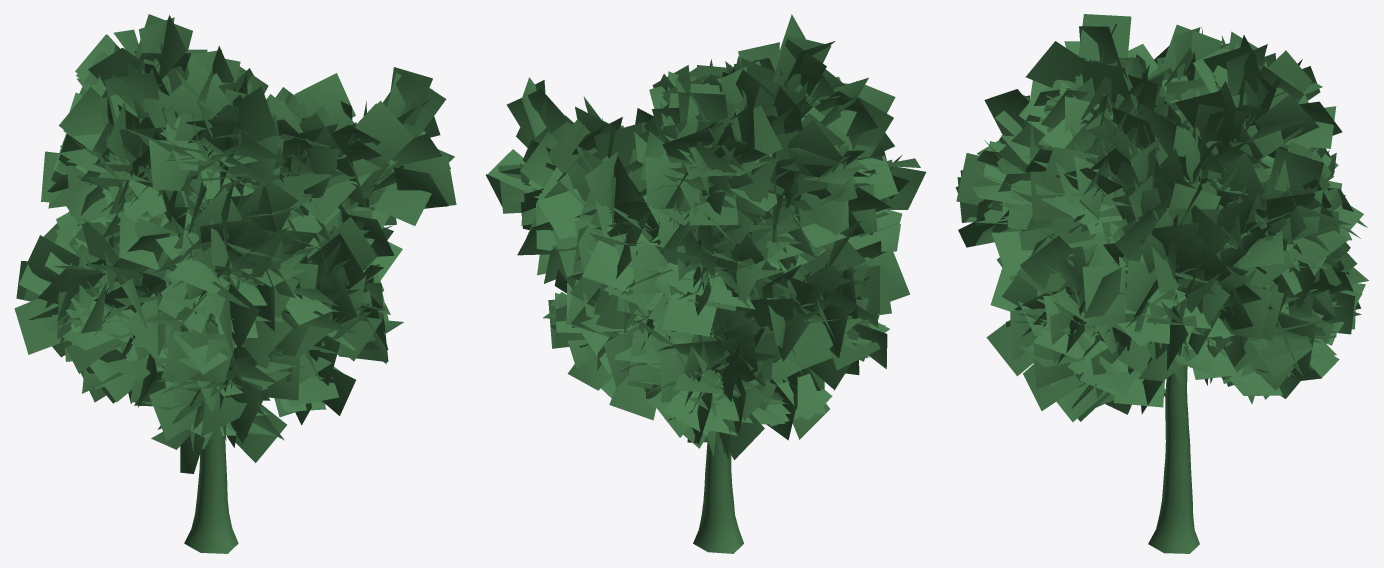
Rendered from Tree_14.fbx.
3 views of the same model, side by side, from view 1: azimuth 30°, elevation 25°; view 2: azimuth 150°, elevation 25°; view 3: azimuth 270°, elevation 25° (orthographic). The views are drawn at different scales.
Visible parts, largest first — view 1: Tree_14_1; view 2: Tree_14_1; view 3: Tree_14_1.
Boxes of the visible parts, x1=… form: Tree_14_1: x1=14, y1=14, x2=456, y2=553; Tree_14_1: x1=486, y1=14, x2=926, y2=553; Tree_14_1: x1=955, y1=14, x2=1368, y2=553.
Size of the model in its own units: 279 by 323 by 242.
